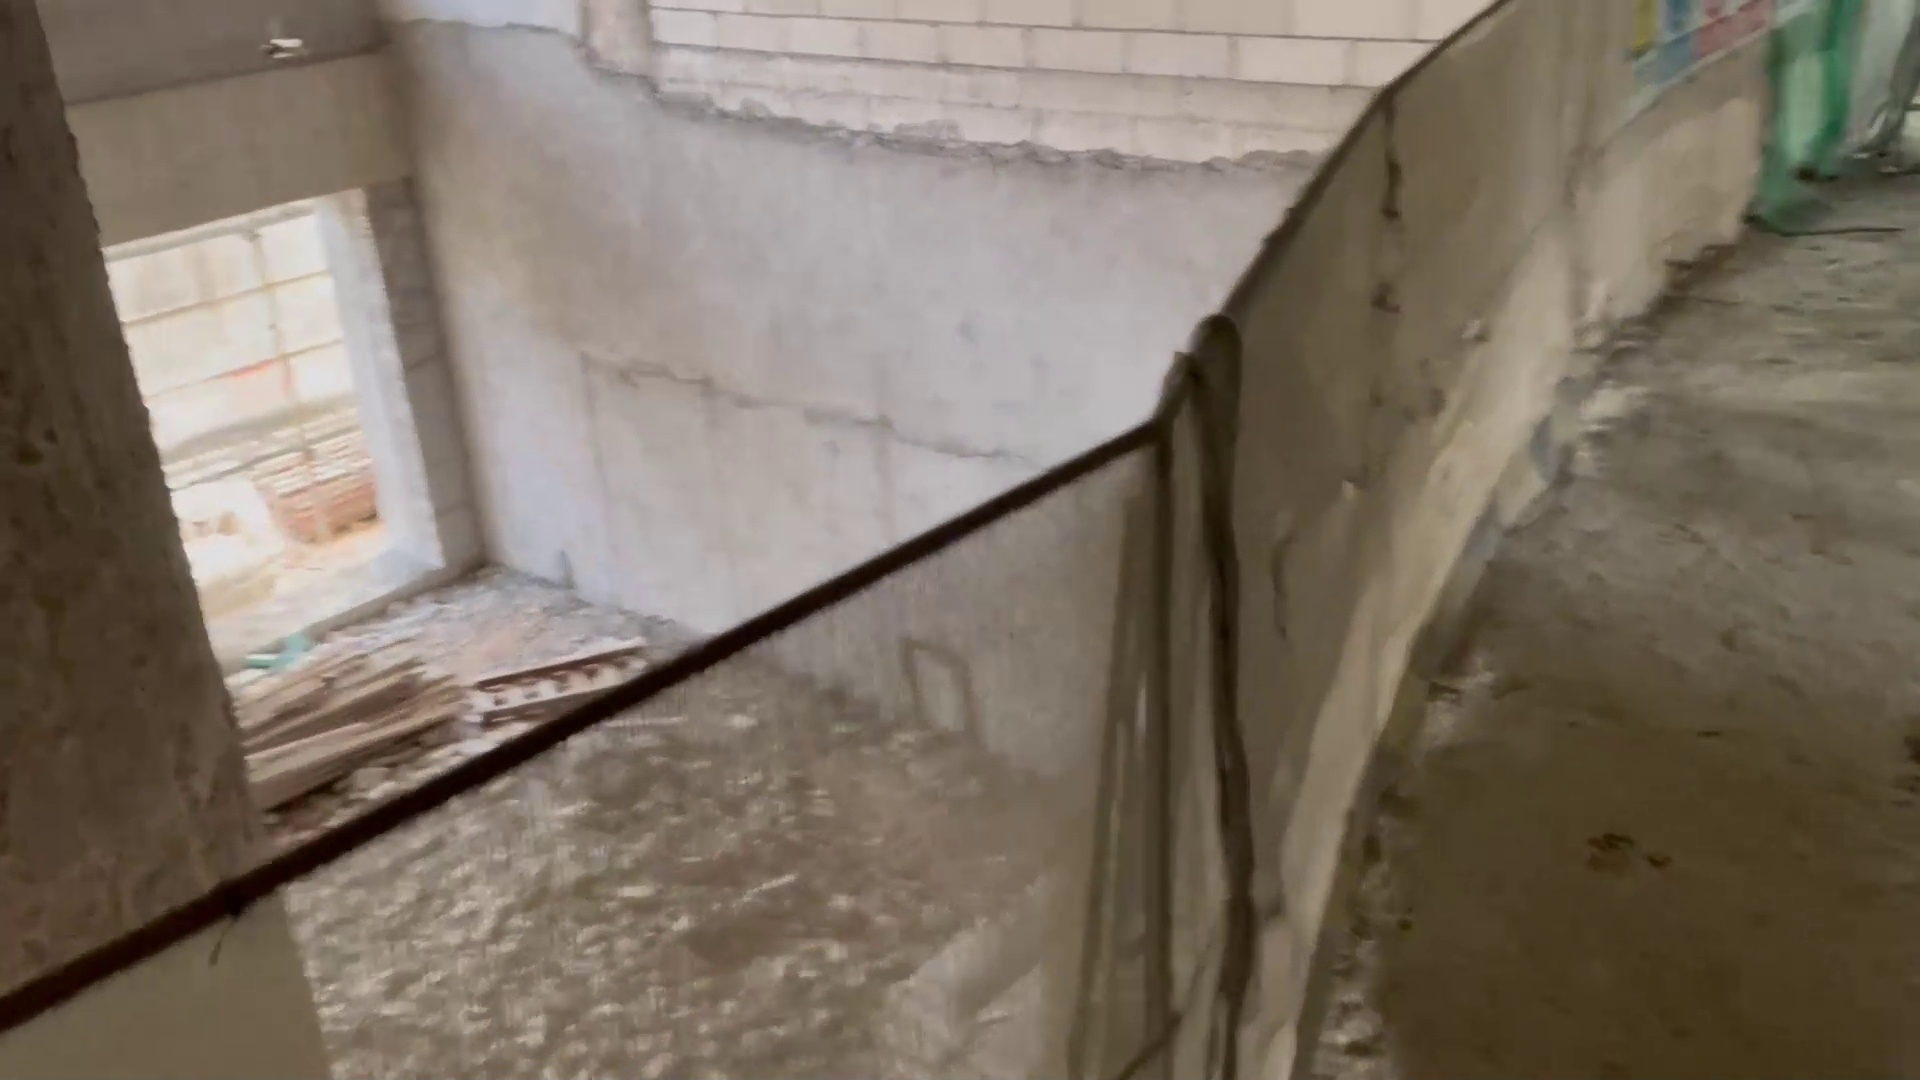slogan: (1596, 8, 1807, 91)
wood: (224, 659, 473, 779)
